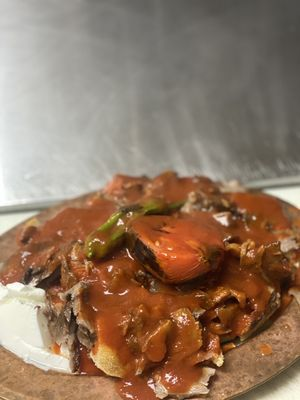sandwich: (0, 170, 300, 397)
